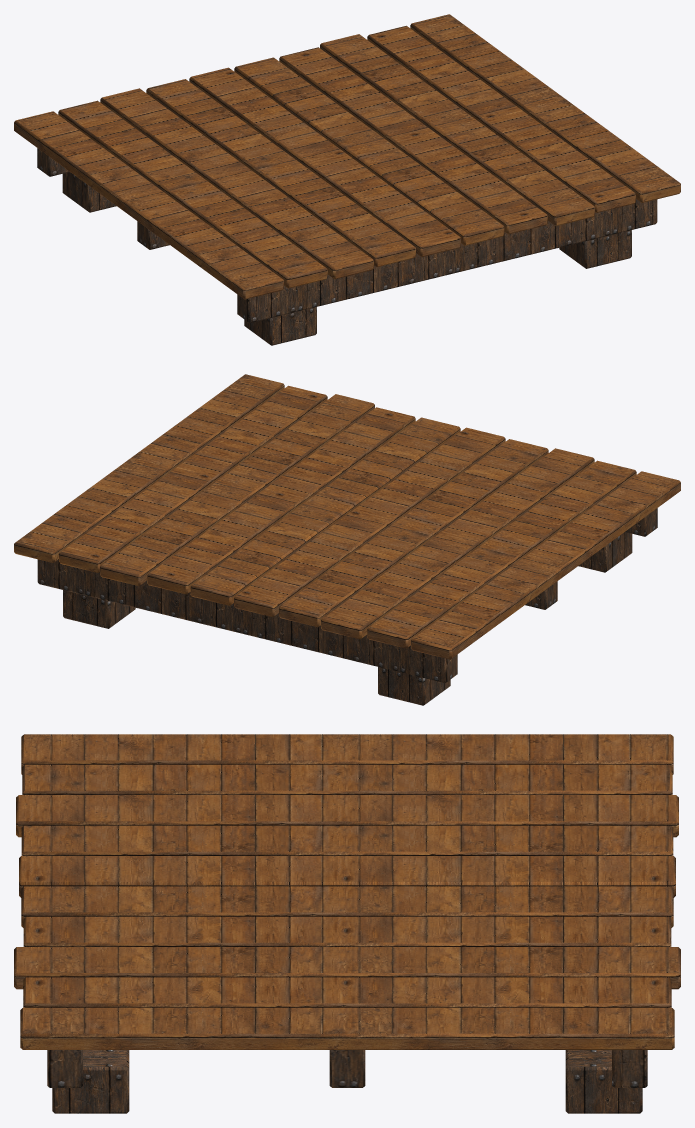
The model's file is wooden-platform-v01.glb.
3 views of the same model, one above another, from view 1: azimuth 30°, elevation 25°; view 2: azimuth 150°, elevation 25°; view 3: azimuth 270°, elevation 25° (orthographic). The views are drawn at different scales.
Visible parts, largest first — view 1: wooden-platform; view 2: wooden-platform; view 3: wooden-platform.
Boxes of the visible parts, x1,y1,x2,y2 form: wooden-platform: (14, 14, 680, 345); wooden-platform: (14, 374, 680, 705); wooden-platform: (14, 734, 680, 1113).
Size of the model in its own units: 2.78 by 0.455 by 2.6.
2 materials, 2 textured.
